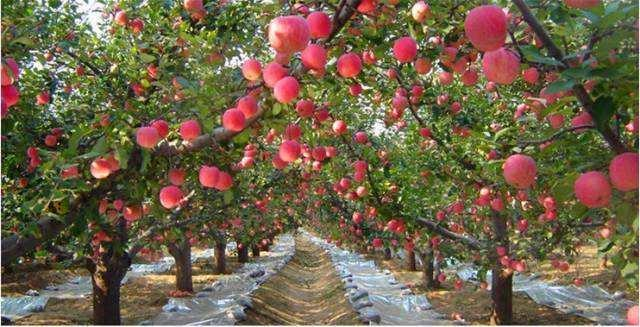apple: (464, 6, 509, 51), (267, 13, 311, 52), (481, 46, 522, 86), (575, 170, 615, 208), (503, 154, 537, 188), (609, 154, 638, 191), (274, 77, 300, 103), (336, 54, 362, 78), (221, 109, 246, 132), (89, 158, 112, 179), (45, 135, 57, 148)
